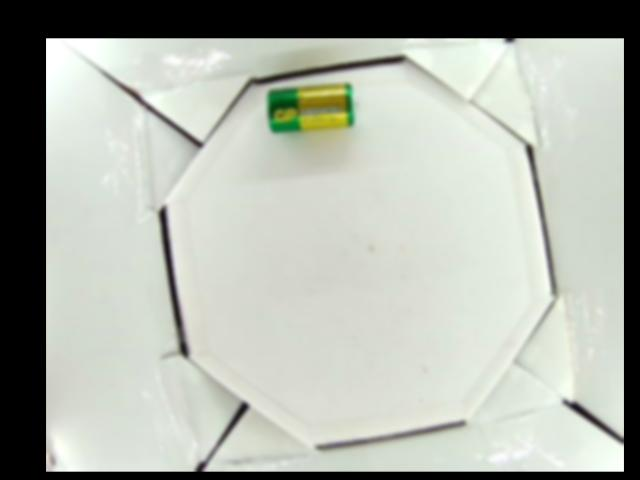Battery: (262, 81, 359, 134)
